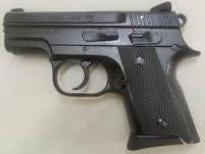gun: (1, 1, 205, 154)
